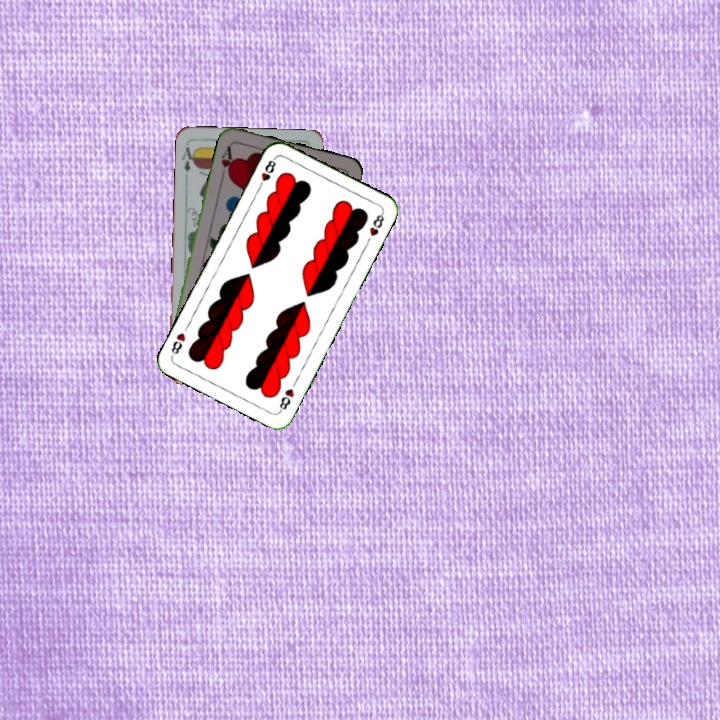EA: (178, 143, 198, 174)
H8: (254, 154, 278, 192), (275, 384, 297, 415)
HA: (217, 141, 237, 181)
